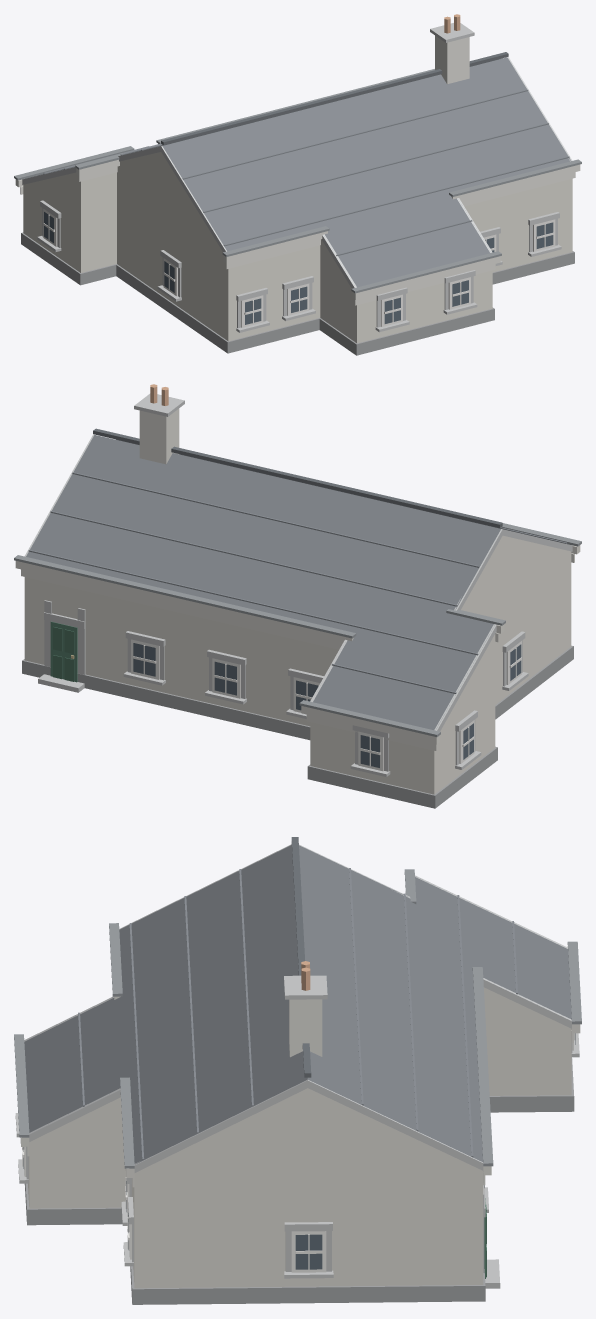
3 views of the same model, one above another, from view 1: azimuth 30°, elevation 25°; view 2: azimuth 150°, elevation 25°; view 3: azimuth 270°, elevation 25° (orthographic). The views are drawn at different scales.
Visible parts, largest first — view 1: slate, harl_grey, plinth, stone_band, string, lead, slate_lt, frame, slate_dk, chim_render; view 2: slate, harl_grey, stone_band, plinth, string, lead, slate_lt, slate_dk, frame, chim_render, door_green_p, door_green (+2 smaller); view 3: slate, harl_grey, stone_band, plinth, lead, slate_lt, chim_render, slate_dk, frame, window_glass_012.
Part boxes in pixels (<box>): slate: <box>30,57,570,287</box>; harl_grey: <box>23,152,572,343</box>; plinth: <box>21,232,574,355</box>; stone_band: <box>22,23,572,332</box>; string: <box>15,143,580,305</box>; lead: <box>14,69,581,293</box>; slate_lt: <box>43,89,569,255</box>; frame: <box>43,209,555,327</box>; slate_dk: <box>161,52,508,145</box>; chim_render: <box>435,35,469,84</box>; slate: <box>26,435,500,729</box>; harl_grey: <box>24,535,571,794</box>; stone_band: <box>24,393,572,776</box>; plinth: <box>22,645,573,808</box>; string: <box>15,545,580,750</box>; lead: <box>14,523,581,736</box>; slate_lt: <box>28,439,567,693</box>; slate_dk: <box>93,428,502,527</box>; frame: <box>131,639,521,771</box>; chim_render: <box>139,408,179,464</box>; door_green_p: <box>53,627,74,681</box>; door_green: <box>50,621,77,682</box>; slate: <box>24,845,571,1164</box>; harl_grey: <box>28,987,571,1288</box>; stone_band: <box>15,844,579,1288</box>; plinth: <box>24,1057,574,1304</box>; lead: <box>14,869,581,1168</box>; slate_lt: <box>78,868,517,1160</box>; chim_render: <box>289,999,322,1057</box>; slate_dk: <box>291,837,311,1077</box>; frame: <box>22,1033,575,1272</box>; window_glass_012: <box>295,1234,322,1269</box>.
Size of the model in its own units: 16.84 by 8.57 by 14.8.
